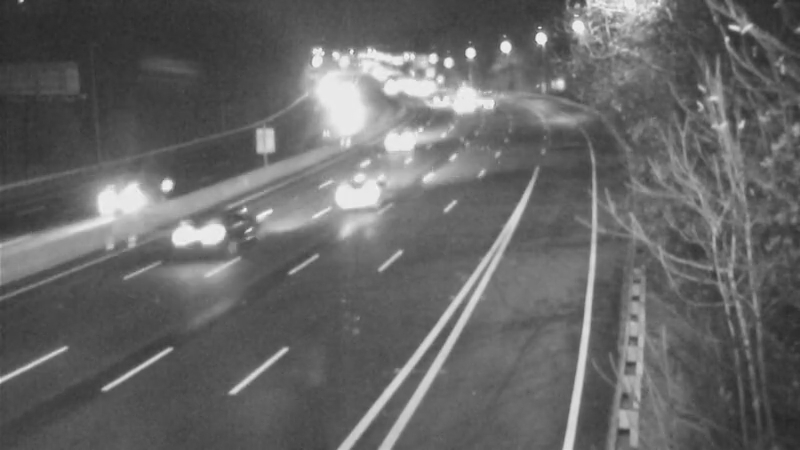vehicle: (317, 151, 397, 231), (161, 197, 241, 277), (84, 161, 164, 241), (412, 72, 462, 122), (435, 80, 485, 130), (375, 116, 425, 166), (315, 95, 365, 145)
